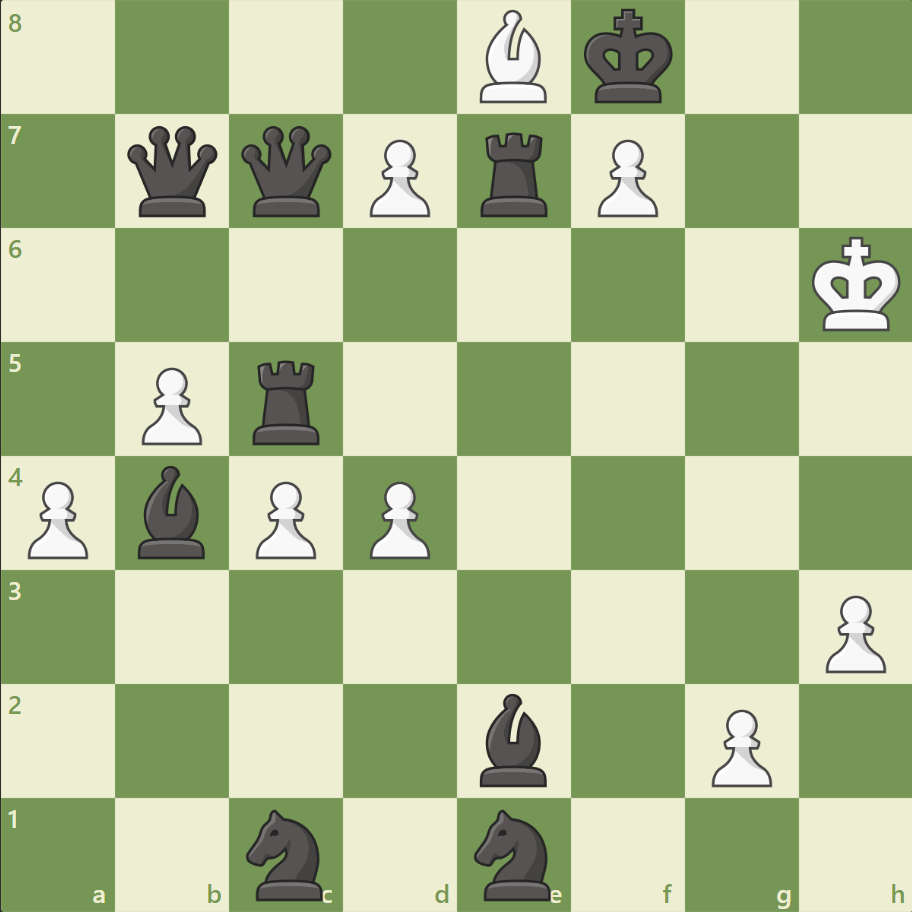B: (471, 6, 555, 109)
K: (806, 231, 906, 339)
P: (133, 359, 208, 450), (20, 473, 95, 564), (247, 473, 322, 564), (701, 700, 776, 791), (361, 132, 435, 223), (588, 132, 662, 223), (361, 473, 435, 564), (815, 586, 889, 677)
b: (131, 460, 215, 563), (471, 687, 555, 790)
k: (579, 4, 679, 112)
n: (238, 802, 335, 904), (465, 802, 562, 904)
q: (124, 122, 223, 222), (237, 122, 336, 222)
r: (473, 125, 556, 222), (246, 352, 329, 449)
